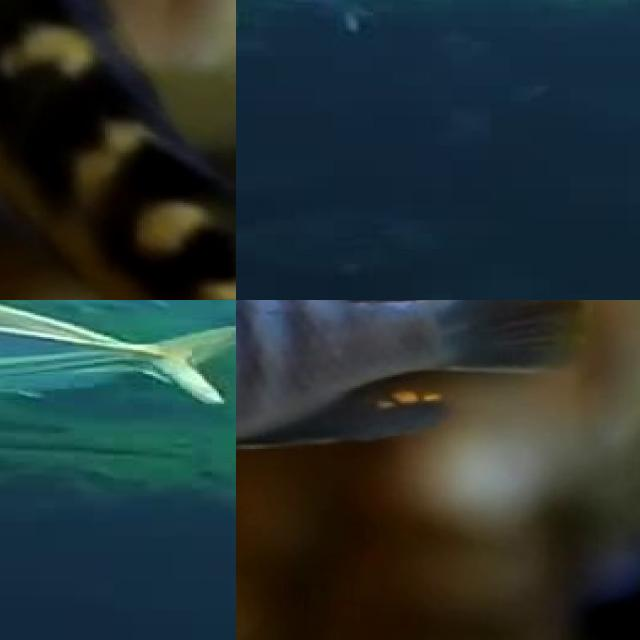fish: (0, 0, 236, 300), (576, 482, 640, 628)
